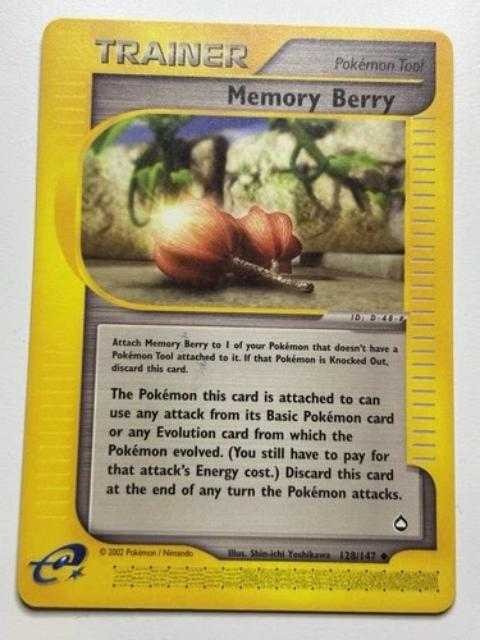Card: (10, 13, 460, 619)
Name: (220, 79, 405, 120)
